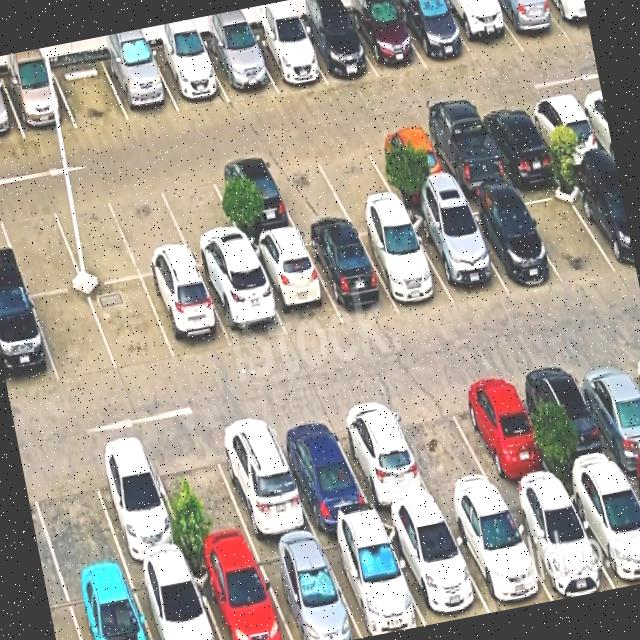empty: (385, 383, 501, 510), (147, 432, 254, 558), (24, 451, 126, 583), (514, 176, 618, 280), (157, 167, 248, 267), (50, 189, 141, 287), (107, 180, 195, 277), (87, 278, 176, 372), (31, 289, 117, 384), (0, 198, 83, 296), (264, 147, 350, 228), (313, 137, 399, 215), (52, 58, 129, 129)
occupied: (448, 371, 559, 497), (209, 415, 316, 545), (327, 396, 438, 517), (85, 441, 189, 569), (268, 409, 375, 532), (518, 358, 622, 483), (503, 487, 615, 601), (443, 499, 553, 613), (318, 523, 425, 638), (382, 513, 490, 625), (253, 537, 362, 640), (407, 204, 508, 304), (458, 193, 560, 292), (248, 233, 343, 339), (301, 223, 398, 324), (354, 214, 454, 311), (190, 548, 291, 640), (564, 472, 640, 588), (569, 350, 640, 470), (142, 268, 233, 361), (198, 259, 288, 348), (419, 115, 510, 197), (209, 157, 297, 241), (567, 168, 637, 273), (129, 560, 220, 640), (367, 126, 455, 202), (476, 102, 560, 180), (525, 93, 608, 168), (347, 1, 427, 78), (64, 571, 151, 640), (0, 294, 59, 395), (297, 14, 378, 85), (393, 0, 476, 69), (101, 50, 179, 121), (150, 43, 230, 112), (1, 67, 77, 139), (249, 26, 328, 93), (440, 0, 524, 63), (203, 35, 277, 102), (491, 0, 571, 51), (544, 0, 591, 42), (0, 77, 25, 143)
